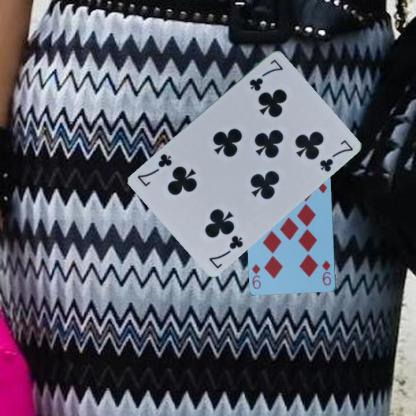7c: (206, 232, 244, 270), (247, 56, 284, 92)
9d: (320, 258, 332, 287)
